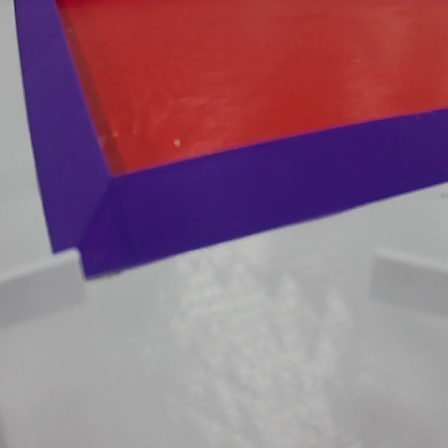red_aim: (12, 1, 448, 282)
